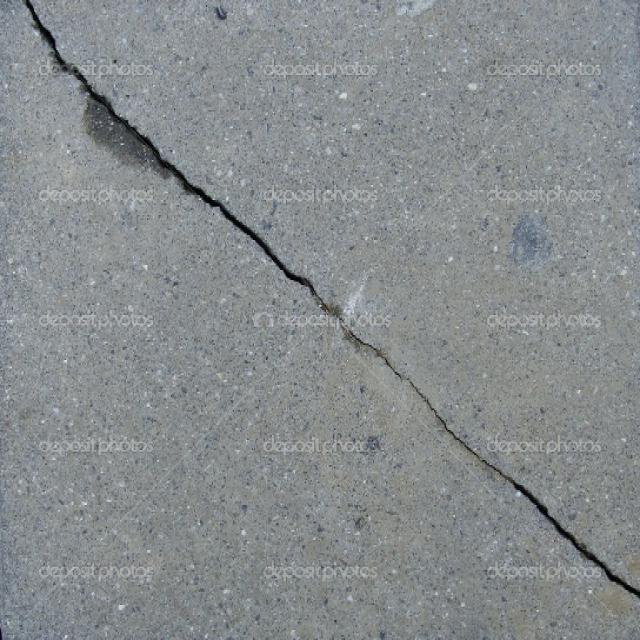Diagonal: (18, 0, 640, 608)
